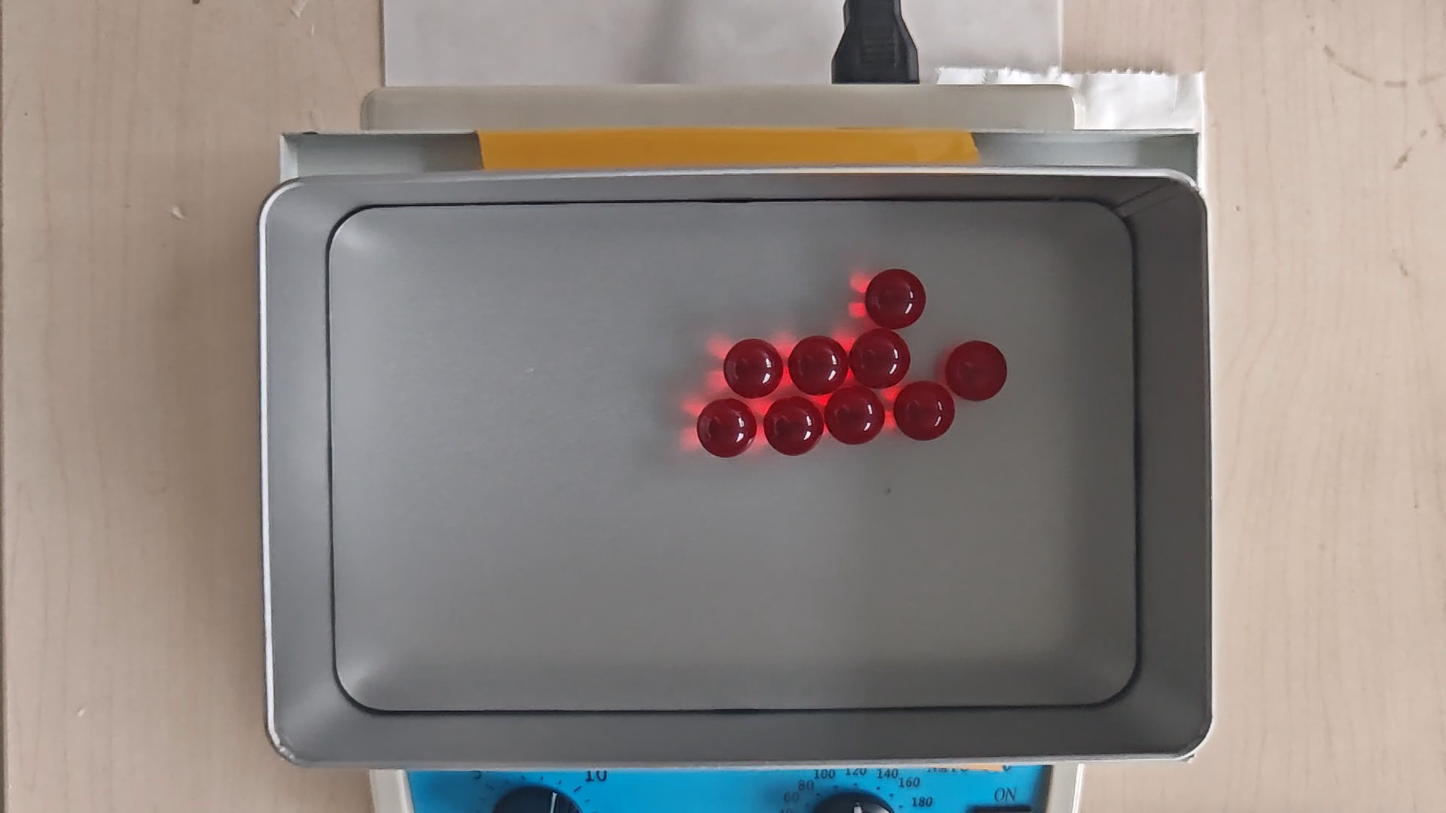ball: (945, 340, 1008, 401), (865, 268, 926, 329), (764, 396, 825, 456), (697, 398, 757, 459), (894, 381, 954, 442), (724, 338, 784, 398), (789, 335, 847, 396), (851, 331, 910, 389), (827, 387, 885, 445)
container: (330, 199, 1137, 711)
